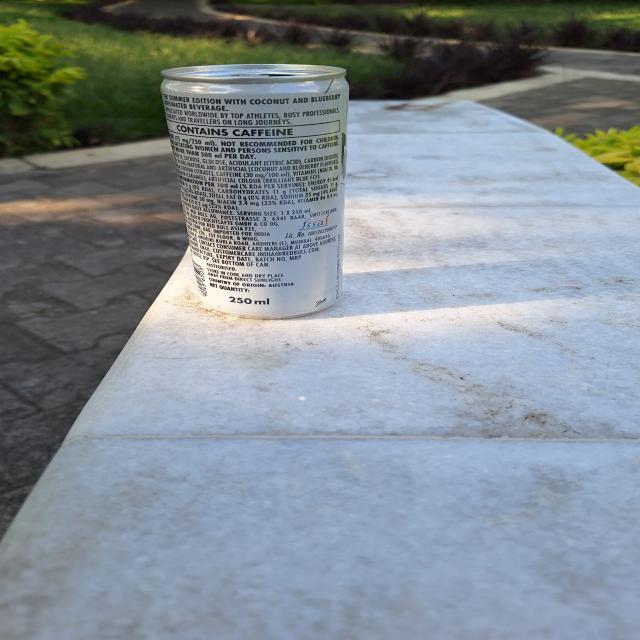Redbull Summer Edition: (150, 57, 370, 322)
